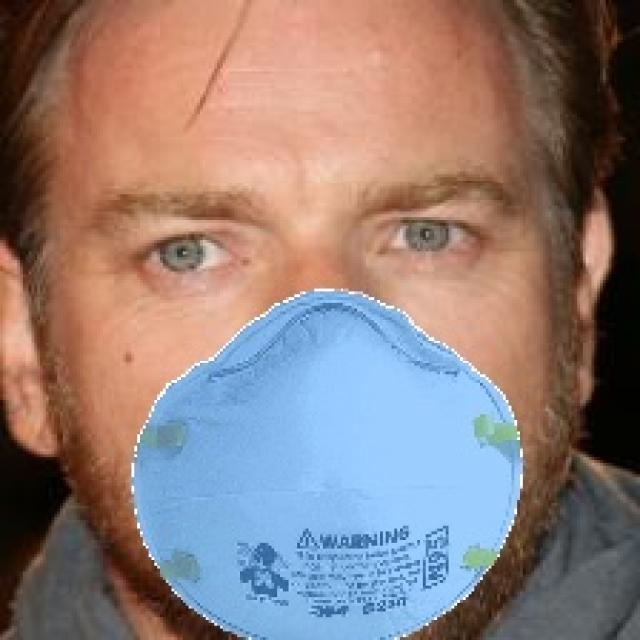mask: (93, 281, 548, 640)
